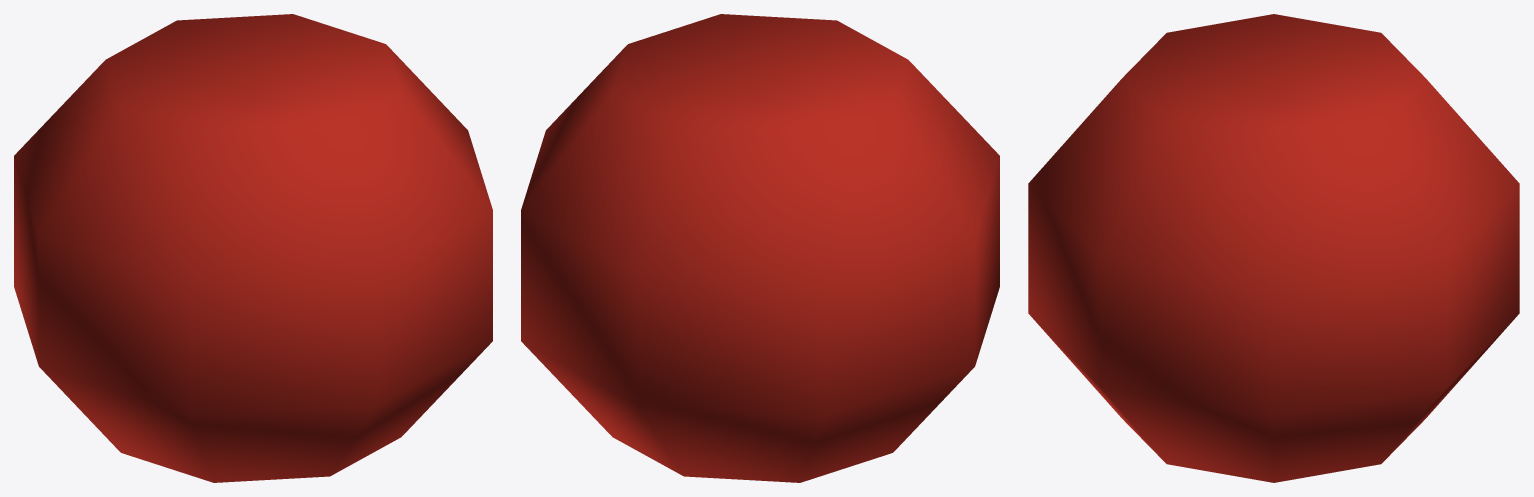
File: pomme.glb
3 renders of one model, left to right at view 1: azimuth 30°, elevation 25°; view 2: azimuth 150°, elevation 25°; view 3: azimuth 270°, elevation 25°, orthographic.
Parts seen in each view (by area): view 1: pomme2; view 2: pomme2; view 3: pomme2.
Boxes of the visible parts, <box> form: pomme2: <box>14,14,492,482</box>; pomme2: <box>521,14,999,482</box>; pomme2: <box>1028,14,1519,482</box>.
Bounding box in the file's own units: 1.9 × 1.53 × 1.9.
